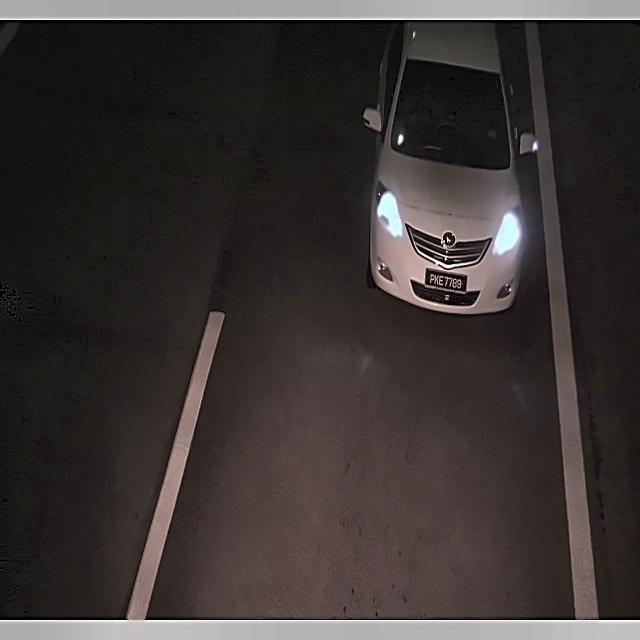car: (420, 260, 470, 301)
